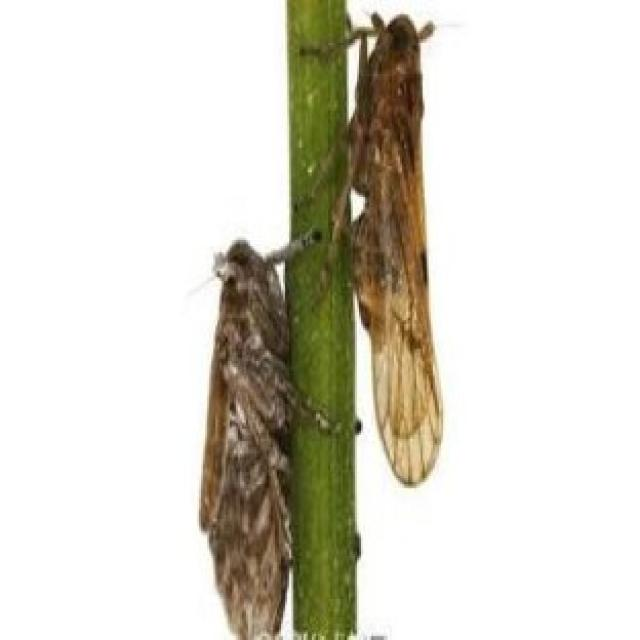brown plant hopper: (299, 12, 441, 484), (199, 230, 336, 638)
